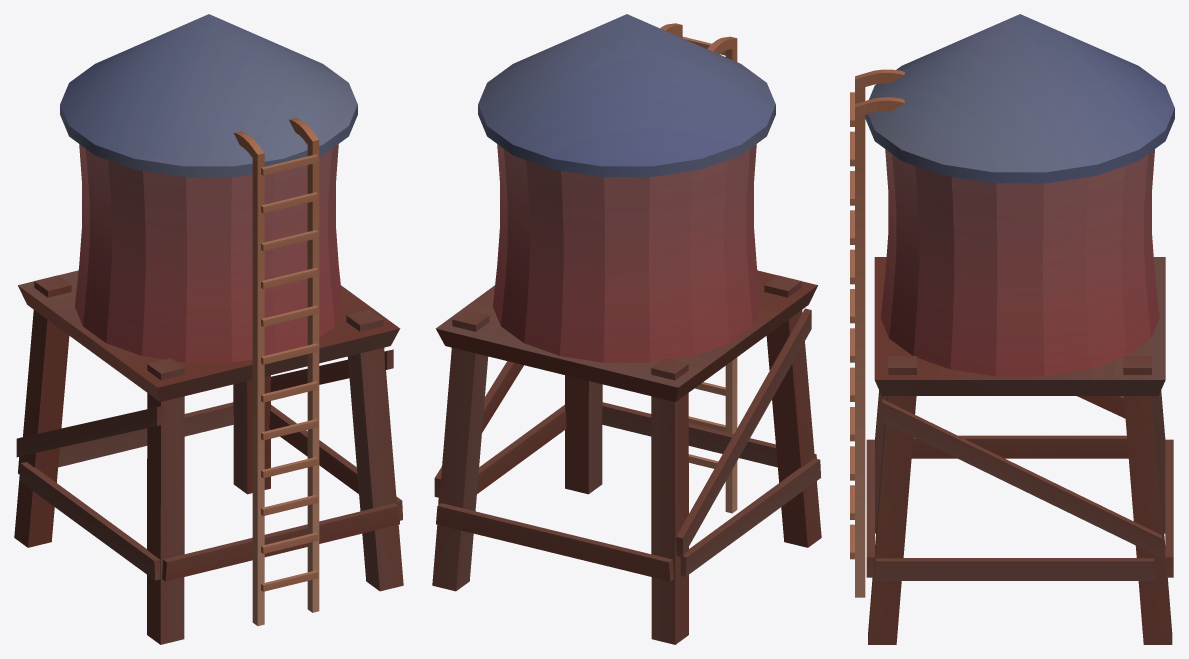
Rendered from cistern.glb.
3 views of the same model, side by side, from view 1: azimuth 30°, elevation 25°; view 2: azimuth 150°, elevation 25°; view 3: azimuth 270°, elevation 25° (orthographic). The views are drawn at different scales.
Parts seen in each view (by area): view 1: cistern; view 2: cistern; view 3: cistern.
Part boxes in pixels (left/top/right/bottom): cistern: left=14, top=14, right=403, bottom=644; cistern: left=432, top=14, right=821, bottom=644; cistern: left=850, top=14, right=1174, bottom=644.
Size of the model in its own units: 2.58 by 5.32 by 2.75.
1 material, 1 textured.
